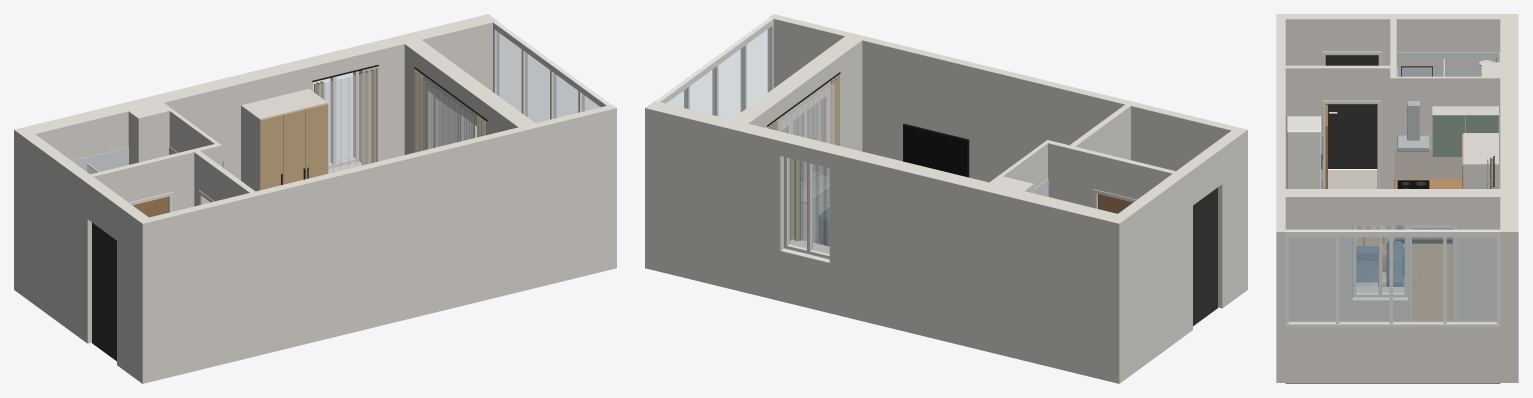
The model's file is studio.min.glb.
3 renders of one model, left to right at view 1: azimuth 30°, elevation 25°; view 2: azimuth 150°, elevation 25°; view 3: azimuth 270°, elevation 25°, orthographic. The views are drawn at different scales.
Parts seen in each view (by area): view 1: B_Wall_08, B_Wall_05, B_Wall_01, B_Wall_04, B_Wall_07, F_Tulle_01, B_Glass_01, B_Door_Entry_01, F_Wardrobe_01, F_Tulle_02, B_Wall_09, B_Shaft_01 (+21 smaller); view 2: B_Wall_01, B_Wall_08, B_Wall_04, B_Wall_05, B_Wall_07, B_Wall_13, B_Glass_01, F_Tulle_02, B_Glass_02, B_Door_Entry_01, B_Wall_16, B_Wall_02 (+18 smaller); view 3: B_Glass_01, B_Parapet_01, B_Wall_13, B_Wall_09, B_Wall_05, B_Wall_17, B_Wall_04, B_Door_Entry_01, B_Wall_08, B_Glass_04, B_Floor_Living_01, B_Glass_03 (+49 smaller).
Boxes of the visible parts, x1,y1,x2,y2 form: B_Wall_08: (142, 104, 616, 383); B_Wall_05: (14, 130, 98, 343); B_Wall_01: (14, 59, 313, 180); B_Wall_04: (353, 14, 498, 162); B_Wall_07: (117, 202, 153, 383); F_Tulle_01: (317, 71, 372, 173); B_Glass_01: (497, 32, 599, 122); B_Door_Entry_01: (92, 222, 116, 361); F_Wardrobe_01: (241, 89, 327, 191); F_Tulle_02: (419, 77, 473, 151); B_Wall_09: (404, 40, 444, 154); B_Shaft_01: (128, 103, 169, 164); B_Wall_01: (829, 146, 1128, 380); B_Wall_08: (769, 14, 1235, 182); B_Wall_04: (645, 101, 790, 300); B_Wall_05: (1108, 167, 1192, 383); B_Wall_07: (1211, 127, 1247, 308); B_Wall_13: (810, 36, 862, 204); B_Glass_01: (666, 28, 769, 119); F_Tulle_02: (781, 83, 835, 241); B_Glass_02: (789, 158, 829, 253); B_Door_Entry_01: (1193, 187, 1217, 325); B_Wall_16: (1044, 140, 1099, 208); B_Wall_02: (780, 248, 829, 313); B_Glass_01: (1289, 237, 1496, 322); B_Parapet_01: (1285, 327, 1500, 382); B_Wall_13: (1285, 189, 1352, 321); B_Wall_09: (1456, 189, 1500, 321); B_Wall_05: (1380, 14, 1500, 65); B_Wall_17: (1396, 76, 1500, 188); B_Wall_04: (1500, 170, 1518, 382); B_Door_Entry_01: (1325, 55, 1378, 168); B_Wall_08: (1276, 19, 1285, 382); B_Glass_04: (1412, 229, 1452, 321); B_Floor_Living_01: (1356, 237, 1452, 321); B_Glass_03: (1356, 225, 1404, 292).
Size of the model in its own units: 8.37 by 2.74 by 3.93.
